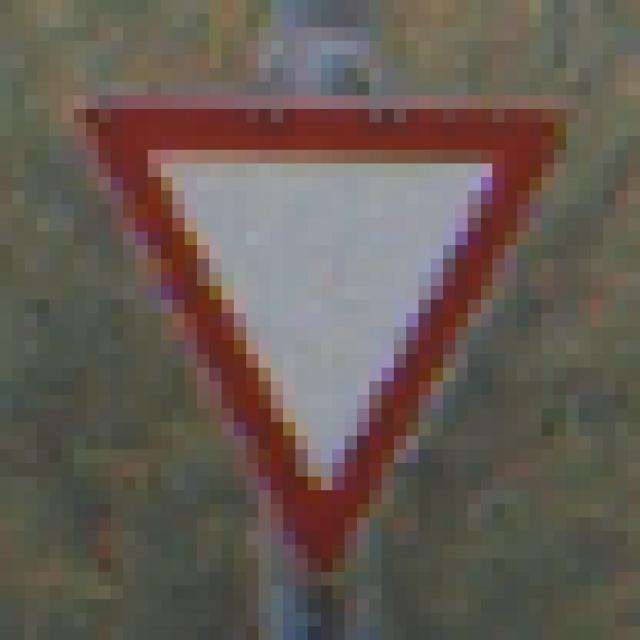Give Way: (63, 69, 567, 559)
